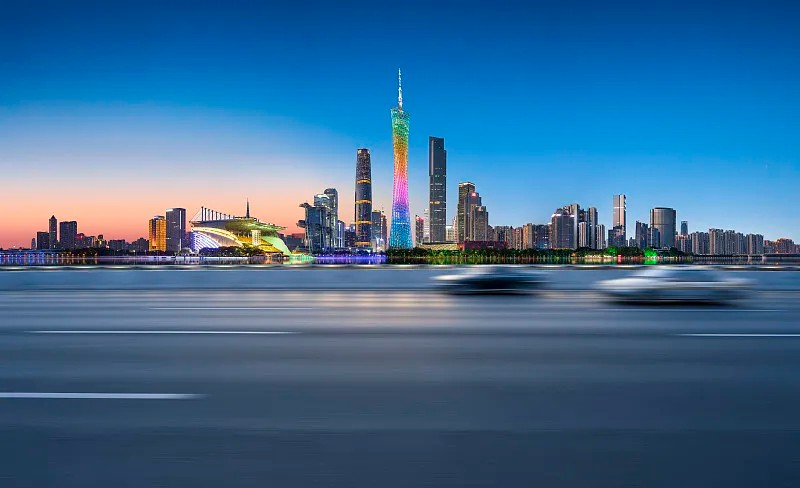Canton: (386, 67, 414, 250)
